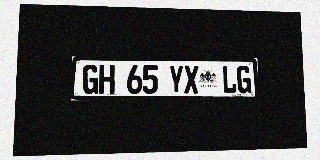5: (143, 65, 158, 94)
6: (127, 65, 142, 94)
G: (82, 65, 99, 94), (237, 66, 251, 93)
H: (99, 65, 115, 94)
L: (222, 66, 237, 93)
X: (184, 65, 199, 94)
Y: (169, 65, 184, 94)
